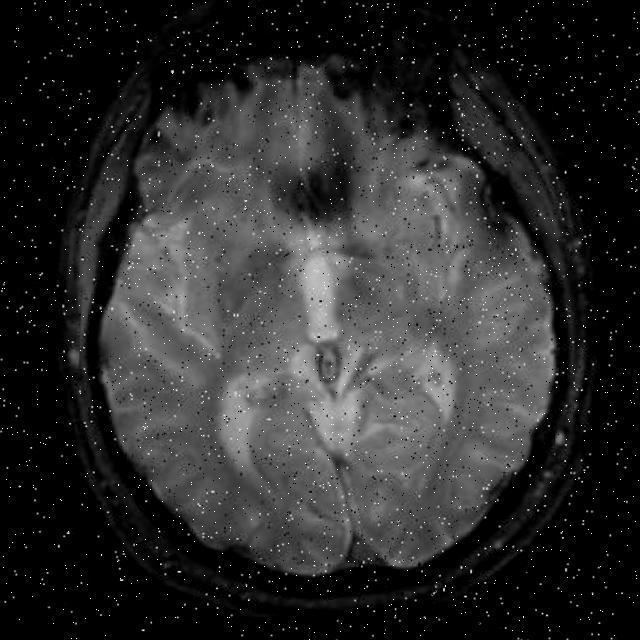EMCI: (256, 124, 369, 275), (454, 164, 544, 269)
